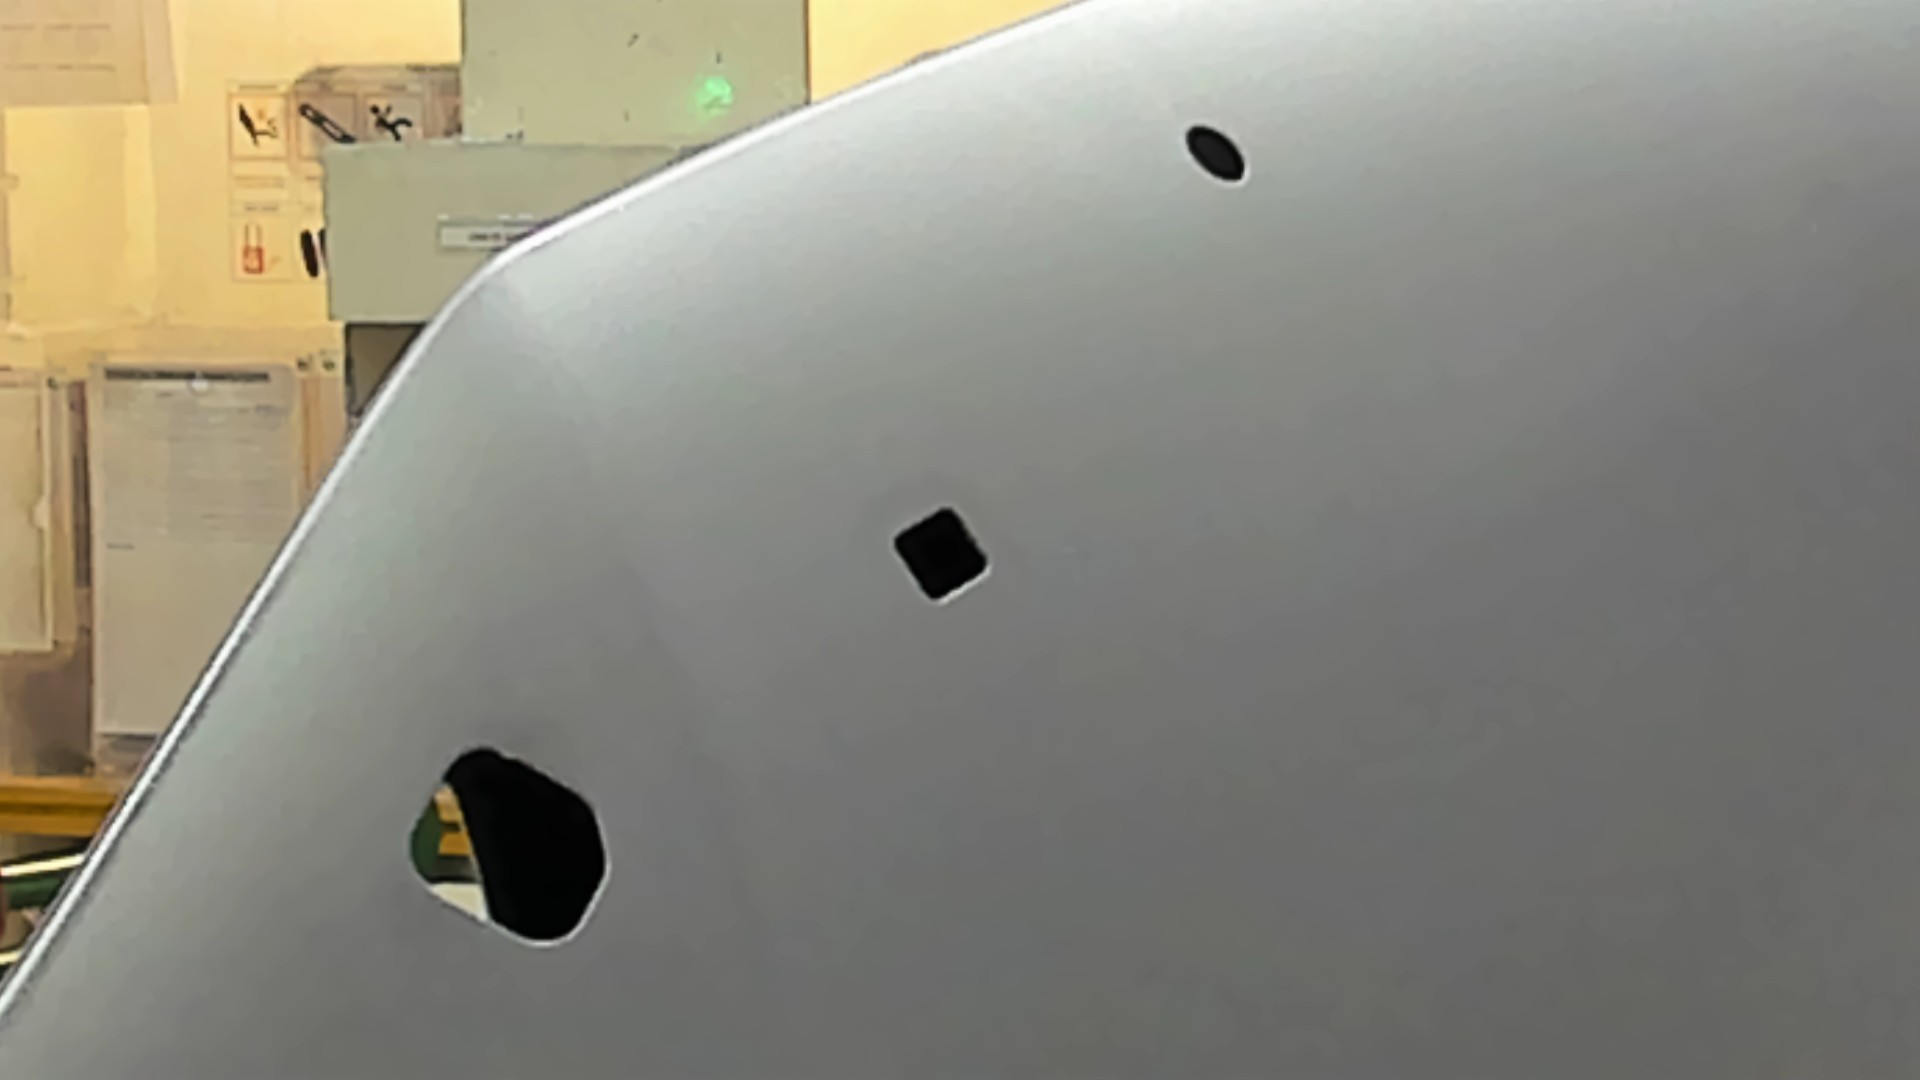chico: (1163, 113, 1275, 199)
grande: (367, 724, 641, 964)
mediano: (872, 497, 1015, 618)
